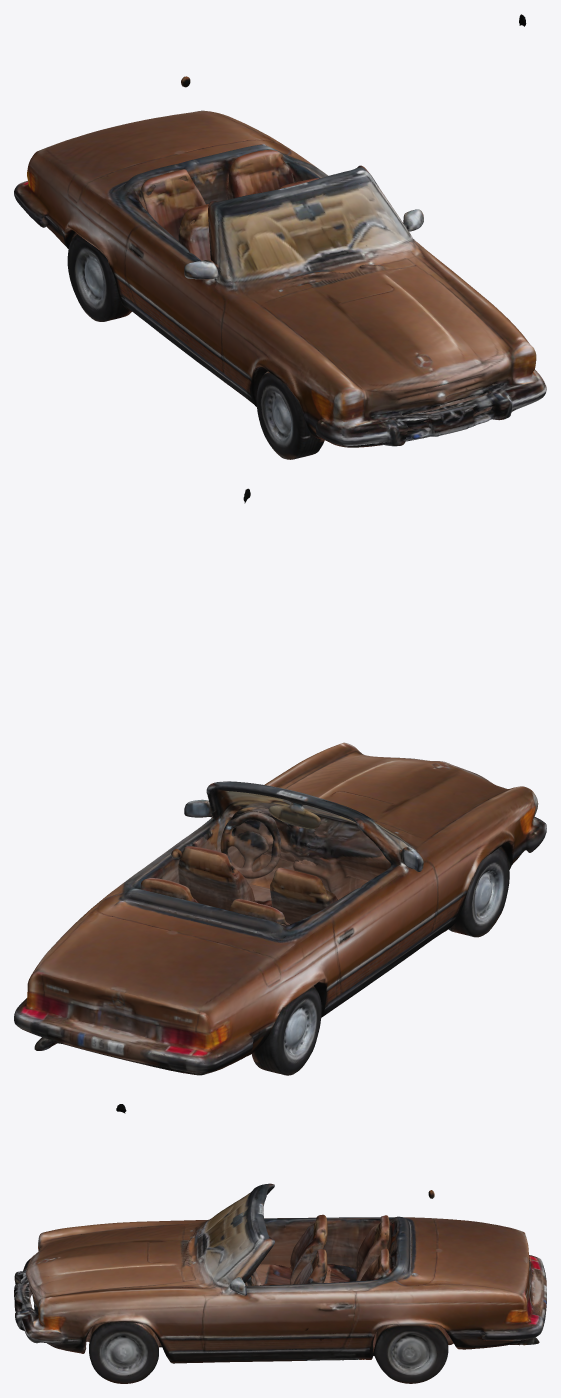
Rendered from Meshy_AI_carro_Mercedes_SL_35_1102123157_texture.glb.
The picture shows the model from 3 angles, top to bottom: view 1: azimuth 30°, elevation 25°; view 2: azimuth 150°, elevation 25°; view 3: azimuth 270°, elevation 25°; orthographic projection. The views are drawn at different scales.
Bounding box in the file's own units: 0.8525 × 1.22 × 2.
1 material, 1 textured.
